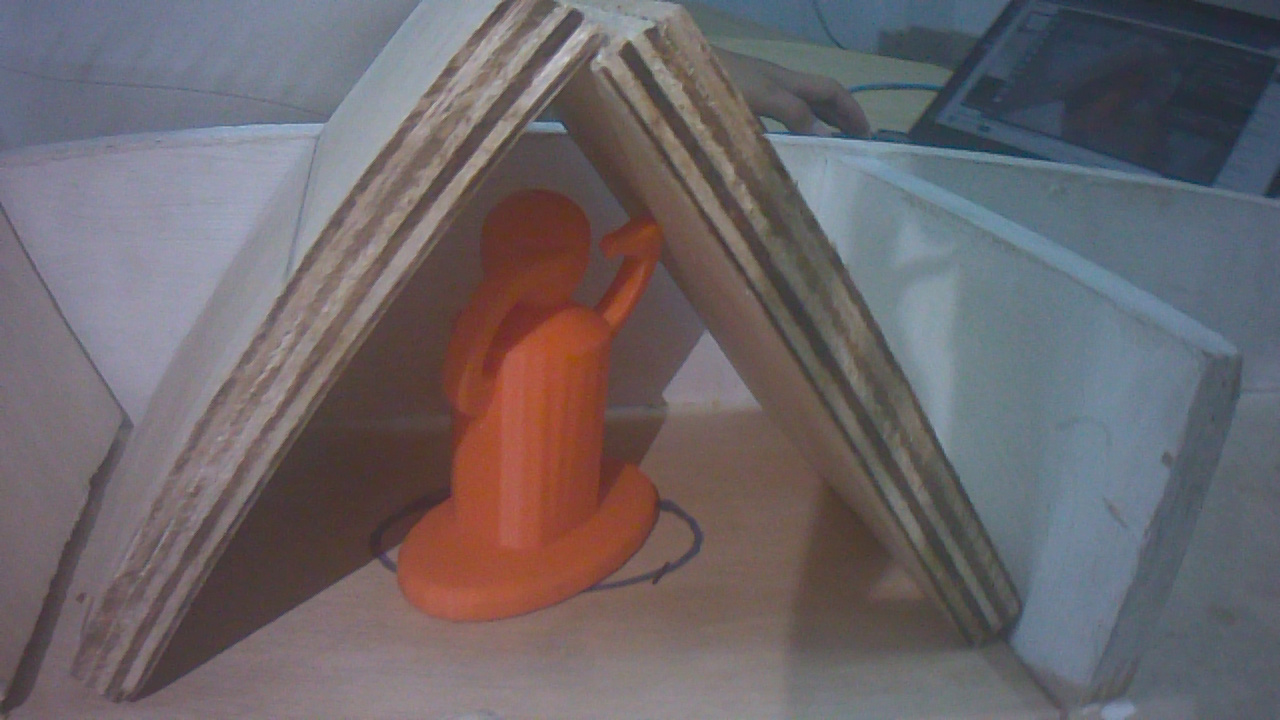real: (394, 190, 671, 617)
